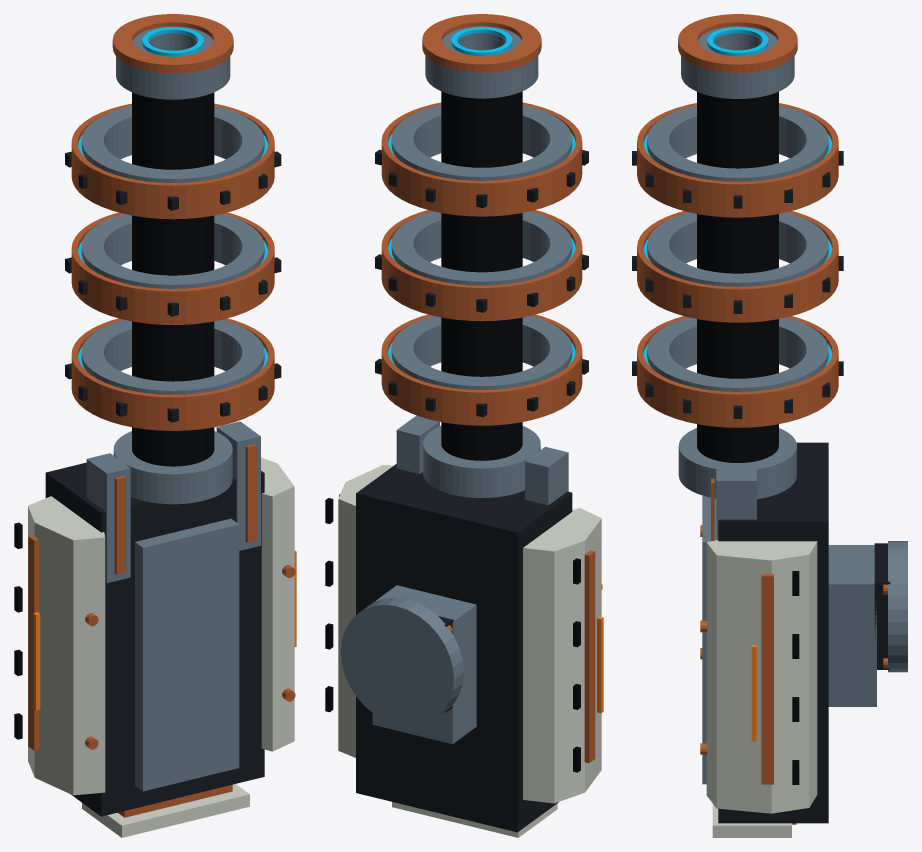
File: M01-007_impulse_ring_cannon.obj
3 views of the same model, side by side, from view 1: azimuth 30°, elevation 25°; view 2: azimuth 150°, elevation 25°; view 3: azimuth 270°, elevation 25° (orthographic).
Visible parts, largest first — view 1: Upper_Spine, Breech_Core, Faceted_Ceramic_Shell_L, Hollow_Cannon_Barrel, Faceted_Ceramic_Shell_R, Ring_03_Copper_Edge, Ring_01_Copper_Edge, Ring_02_Copper_Edge, Ring_03_Titanium, Ring_01_Titanium, Ring_02_Titanium, Breech_Barrel_Collar (+11 smaller); view 2: Breech_Core, Faceted_Ceramic_Shell_L, Hollow_Cannon_Barrel, Top_Mount_Plate, Ring_03_Copper_Edge, Ring_01_Copper_Edge, Ring_02_Copper_Edge, Ring_03_Titanium, Ring_02_Titanium, Ring_01_Titanium, Central_Pedestal, Breech_Barrel_Collar (+9 smaller); view 3: Faceted_Ceramic_Shell_R, Hollow_Cannon_Barrel, Breech_Core, Ring_03_Copper_Edge, Ring_02_Copper_Edge, Ring_01_Copper_Edge, Central_Pedestal, Ring_03_Titanium, Ring_02_Titanium, Ring_01_Titanium, Muzzle_Brake, Muzzle_Copper_Lip (+9 smaller).
Boxes of the visible parts, left/top/right/bottom form: Upper_Spine: left=135, top=518, right=239, bottom=791; Breech_Core: left=45, top=462, right=264, bottom=816; Faceted_Ceramic_Shell_L: left=28, top=496, right=105, bottom=795; Hollow_Cannon_Barrel: left=132, top=92, right=214, bottom=466; Faceted_Ceramic_Shell_R: left=261, top=457, right=294, bottom=751; Ring_03_Copper_Edge: left=71, top=103, right=274, bottom=219; Ring_01_Copper_Edge: left=71, top=318, right=274, bottom=430; Ring_02_Copper_Edge: left=71, top=212, right=274, bottom=324; Ring_03_Titanium: left=81, top=106, right=264, bottom=182; Ring_01_Titanium: left=81, top=319, right=264, bottom=394; Ring_02_Titanium: left=81, top=214, right=264, bottom=288; Breech_Barrel_Collar: left=113, top=431, right=232, bottom=504; Breech_Core: left=356, top=464, right=572, bottom=832; Faceted_Ceramic_Shell_L: left=523, top=508, right=601, bottom=803; Hollow_Cannon_Barrel: left=441, top=91, right=522, bottom=460; Top_Mount_Plate: left=340, top=597, right=463, bottom=726; Ring_03_Copper_Edge: left=381, top=102, right=582, bottom=216; Ring_01_Copper_Edge: left=381, top=314, right=582, bottom=425; Ring_02_Copper_Edge: left=381, top=210, right=582, bottom=321; Ring_03_Titanium: left=391, top=105, right=572, bottom=180; Ring_02_Titanium: left=391, top=211, right=572, bottom=285; Ring_01_Titanium: left=391, top=316, right=572, bottom=389; Central_Pedestal: left=372, top=585, right=476, bottom=744; Breech_Barrel_Collar: left=423, top=426, right=540, bottom=497; Faceted_Ceramic_Shell_R: left=706, top=540, right=817, bottom=813; Hollow_Cannon_Barrel: left=697, top=91, right=778, bottom=462; Breech_Core: left=718, top=442, right=828, bottom=823; Ring_03_Copper_Edge: left=637, top=103, right=838, bottom=217; Ring_02_Copper_Edge: left=637, top=211, right=838, bottom=322; Ring_01_Copper_Edge: left=637, top=316, right=838, bottom=427; Central_Pedestal: left=828, top=545, right=876, bottom=706; Ring_03_Titanium: left=647, top=105, right=828, bottom=181; Ring_02_Titanium: left=647, top=212, right=828, bottom=286; Ring_01_Titanium: left=647, top=317, right=828, bottom=391; Muzzle_Brake: left=681, top=26, right=794, bottom=98; Muzzle_Copper_Lip: left=678, top=14, right=797, bottom=72.
Bounding box in the file's own units: 0.773 × 2.19 × 0.714.
